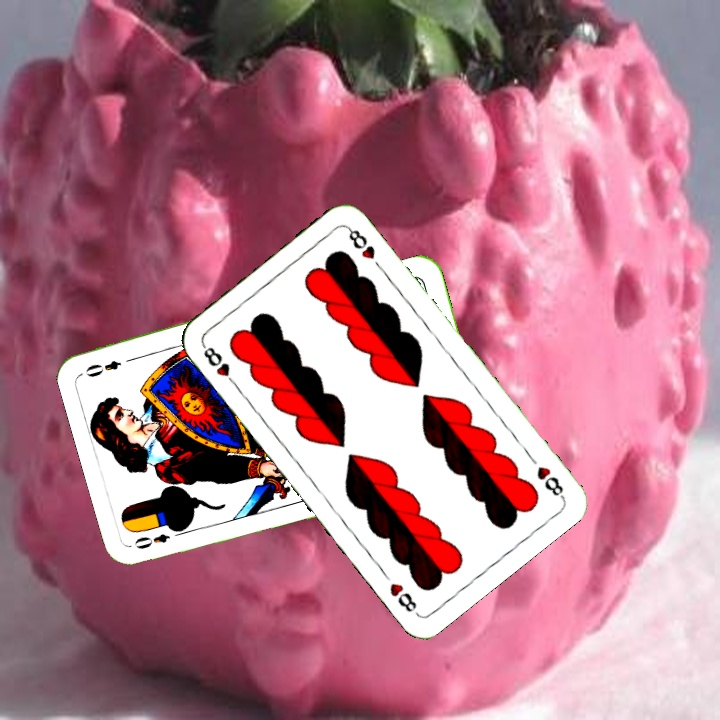EO: (130, 529, 173, 552)
H8: (198, 340, 241, 390), (533, 462, 567, 501)
